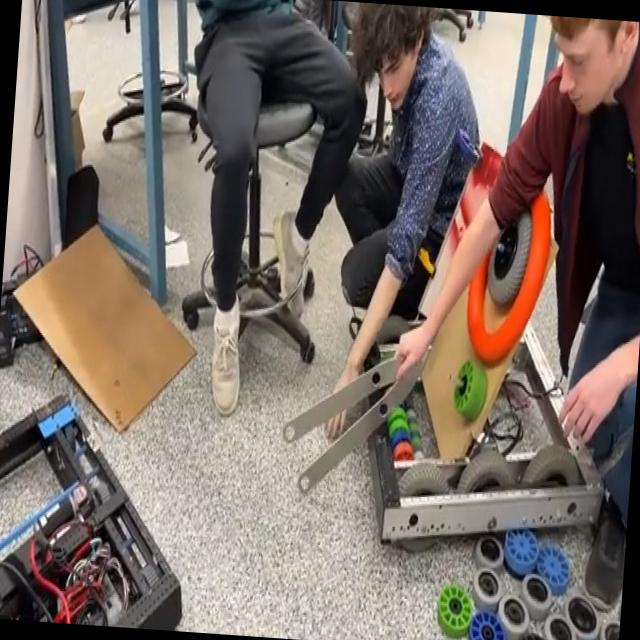note: (462, 180, 558, 372)
